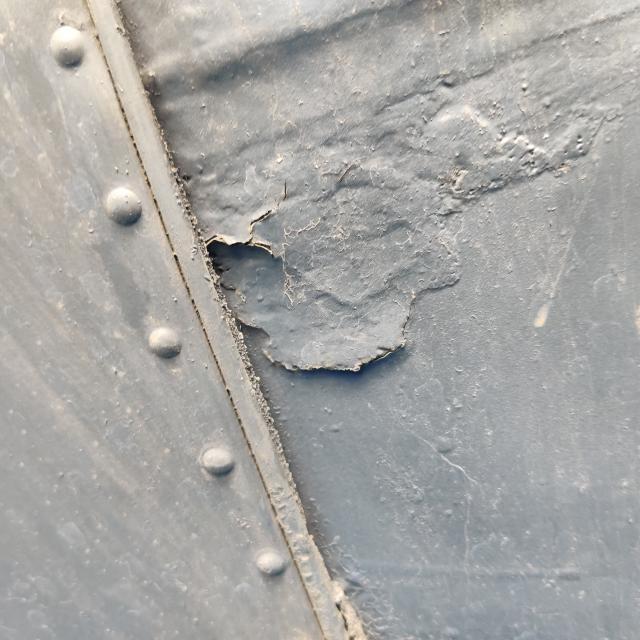paint-off: (190, 186, 433, 402)
